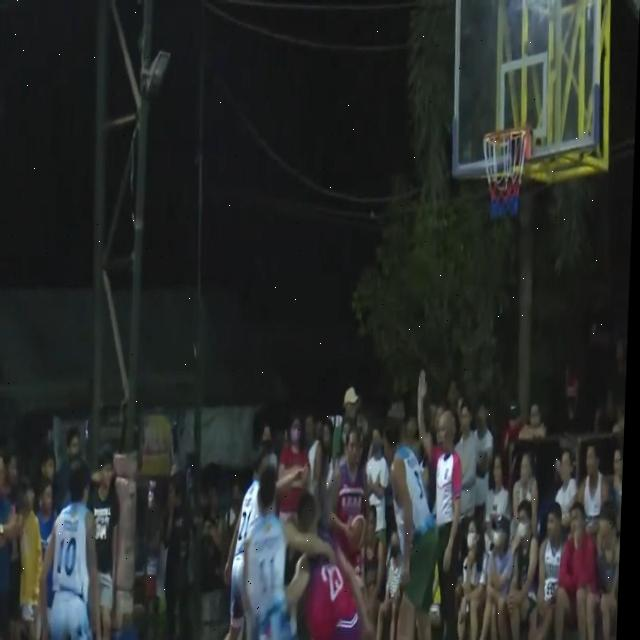basketball: (348, 512, 368, 558)
hoop: (477, 123, 531, 231)
